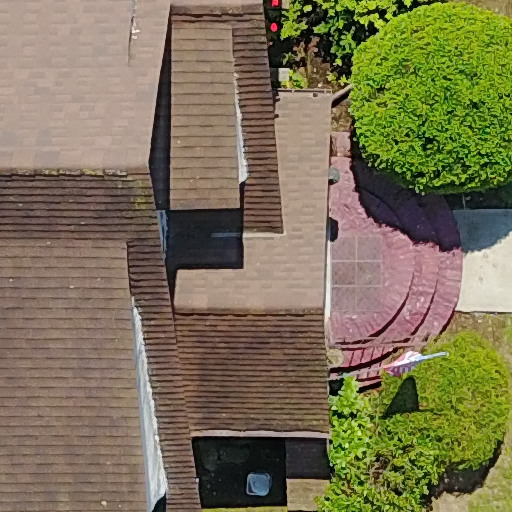container: (244, 466, 274, 499)
